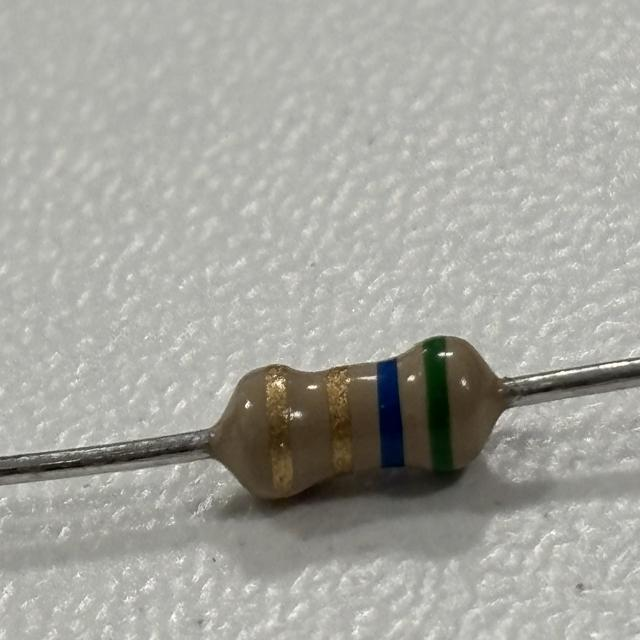resistor: (238, 333, 477, 504)
